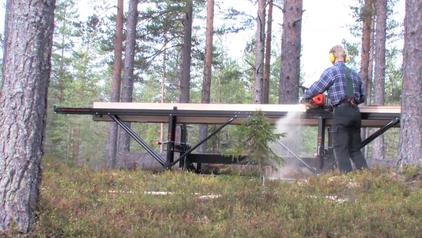stay: (324, 83, 361, 163)
